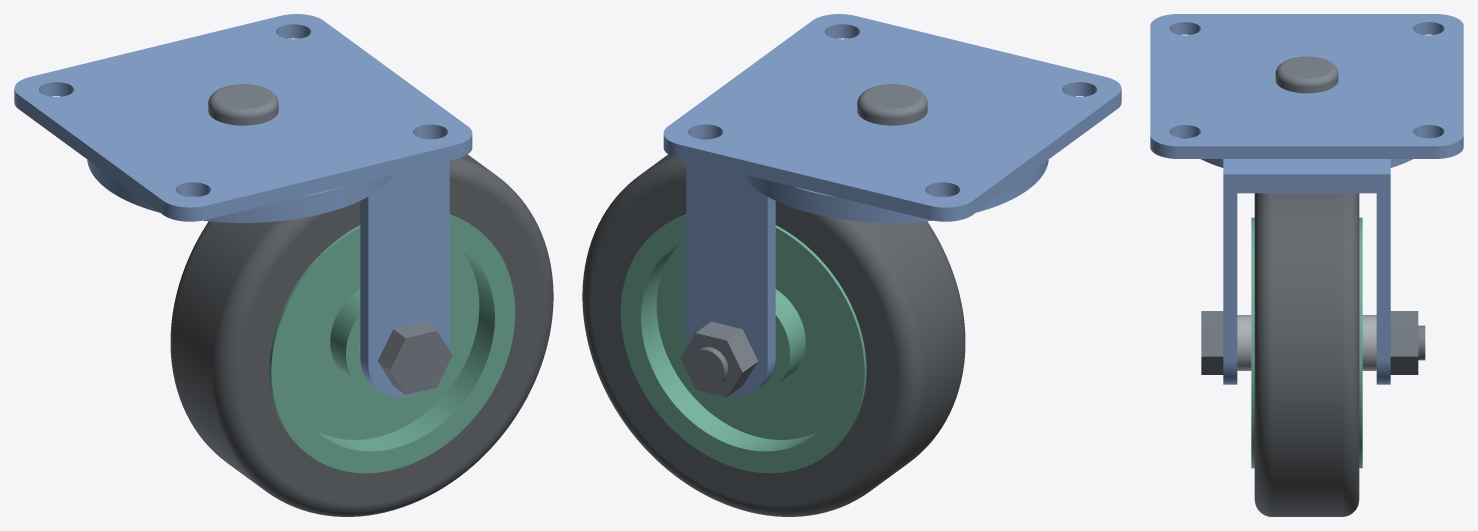
The model's file is swivel_castor.glb.
3 renders of one model, left to right at view 1: azimuth 30°, elevation 25°; view 2: azimuth 150°, elevation 25°; view 3: azimuth 270°, elevation 25°, orthographic. The views are drawn at different scales.
Parts seen in each view (by area): view 1: top plate, tyre, wheel centre, fork, axle bolt M10 x 58, king pin rivet; view 2: top plate, tyre, wheel centre, fork, nut M10, king pin rivet, axle bolt M10 x 58; view 3: top plate, tyre, fork, wheel centre, king pin rivet, nut M10, axle bolt M10 x 58, spacer 1, spacer 2.
Part boxes in pixels (bbox=[...]): top plate: bbox=[14, 14, 472, 221]; tyre: bbox=[170, 154, 553, 516]; wheel centre: bbox=[269, 214, 515, 473]; fork: bbox=[87, 138, 449, 397]; axle bolt M10 x 58: bbox=[377, 321, 452, 394]; king pin rivet: bbox=[208, 84, 278, 125]; top plate: bbox=[663, 14, 1121, 221]; tyre: bbox=[582, 154, 965, 516]; wheel centre: bbox=[620, 214, 866, 473]; fork: bbox=[686, 138, 1048, 397]; nut M10: bbox=[680, 321, 758, 397]; king pin rivet: bbox=[857, 84, 927, 125]; axle bolt M10 x 58: bbox=[690, 347, 728, 386]; top plate: bbox=[1150, 14, 1463, 158]; tyre: bbox=[1254, 193, 1359, 516]; fork: bbox=[1182, 137, 1431, 384]; wheel centre: bbox=[1251, 217, 1362, 468]; king pin rivet: bbox=[1275, 56, 1338, 93]; nut M10: bbox=[1390, 311, 1418, 374]; axle bolt M10 x 58: bbox=[1201, 311, 1425, 374]; spacer 1: bbox=[1362, 315, 1376, 370]; spacer 2: bbox=[1237, 315, 1251, 370].
Size of the model in its own units: 130 by 121 by 90.
